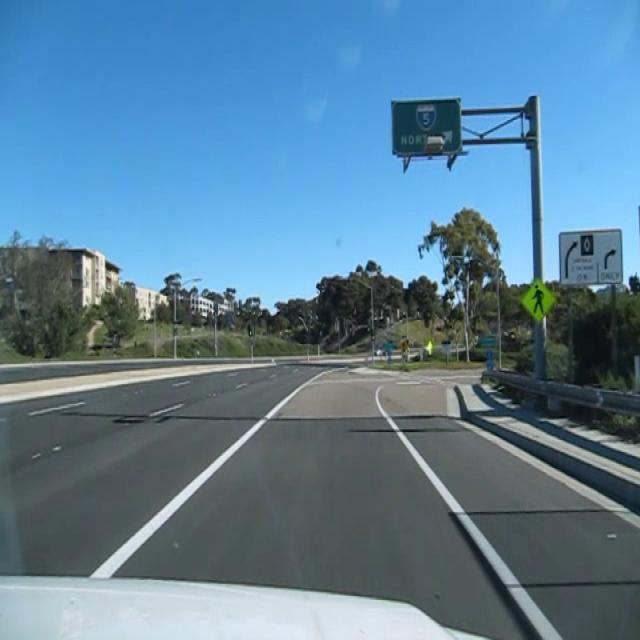pedestrianCrossing: (518, 275, 556, 324)
